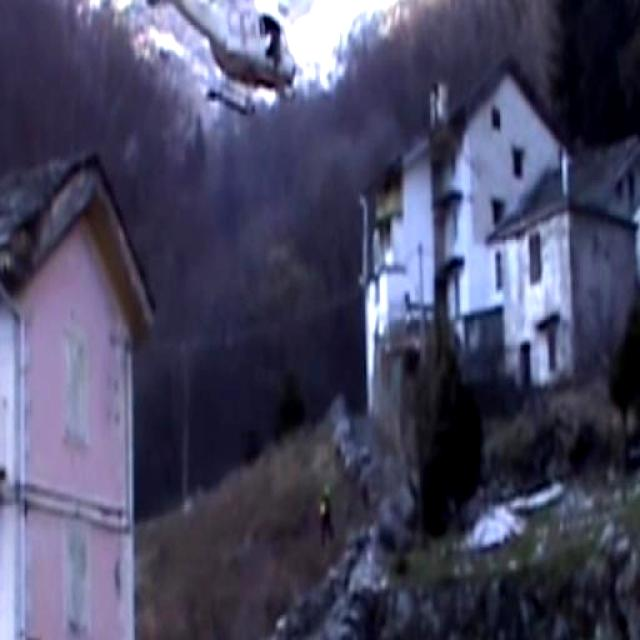drone: (129, 0, 328, 130)
